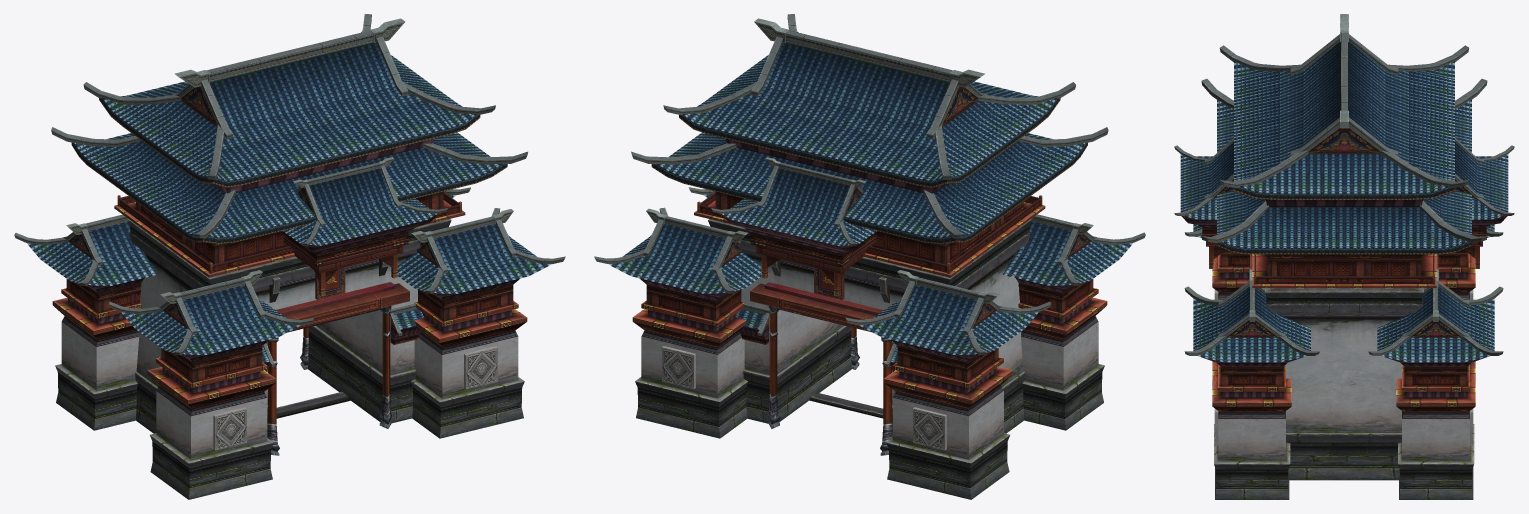
Rendered from Maincity06_Building_Door_LOD1.FBX.
The picture shows the model from 3 angles, left to right: view 1: azimuth 30°, elevation 25°; view 2: azimuth 150°, elevation 25°; view 3: azimuth 270°, elevation 25°; orthographic projection. The views are drawn at different scales.
Parts seen in each view (by area): view 1: Maincity06_Building_Door_LOD1; view 2: Maincity06_Building_Door_LOD1; view 3: Maincity06_Building_Door_LOD1.
Boxes of the visible parts, x1=… form: Maincity06_Building_Door_LOD1: x1=14, y1=14, x2=565, y2=499; Maincity06_Building_Door_LOD1: x1=594, y1=14, x2=1145, y2=499; Maincity06_Building_Door_LOD1: x1=1174, y1=14, x2=1514, y2=499.
Bounding box in the file's own units: 3186 × 2833 × 2468.
